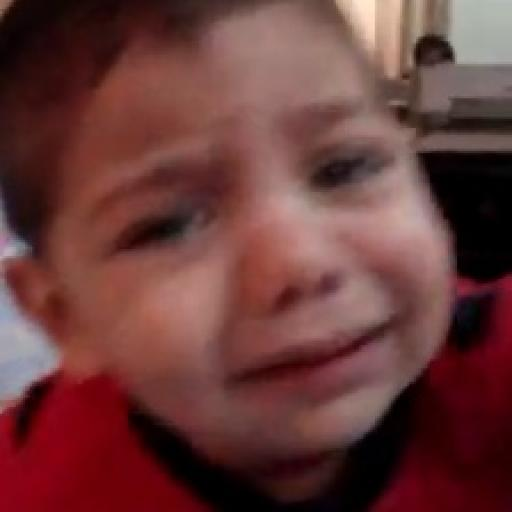Autism: (48, 34, 512, 484)
